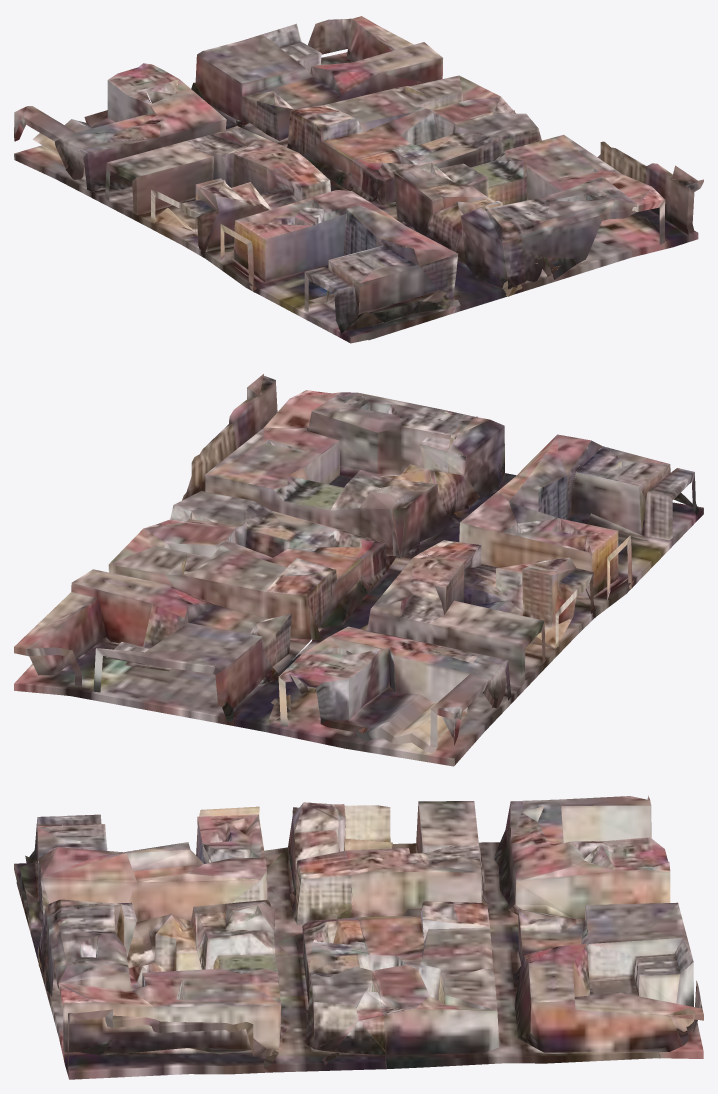
3 views of the same model, one above another, from view 1: azimuth 30°, elevation 25°; view 2: azimuth 150°, elevation 25°; view 3: azimuth 270°, elevation 25° (orthographic). The views are drawn at different scales.
Visible parts, largest first — view 1: Mesh_0; view 2: Mesh_0; view 3: Mesh_0.
Boxes of the visible parts, x1,y1,x2,y2 form: Mesh_0: (14, 16, 703, 343); Mesh_0: (14, 374, 703, 766); Mesh_0: (14, 795, 703, 1079).
Size of the model in its own units: 270 by 44.73 by 330.
2 materials, 2 textured.
